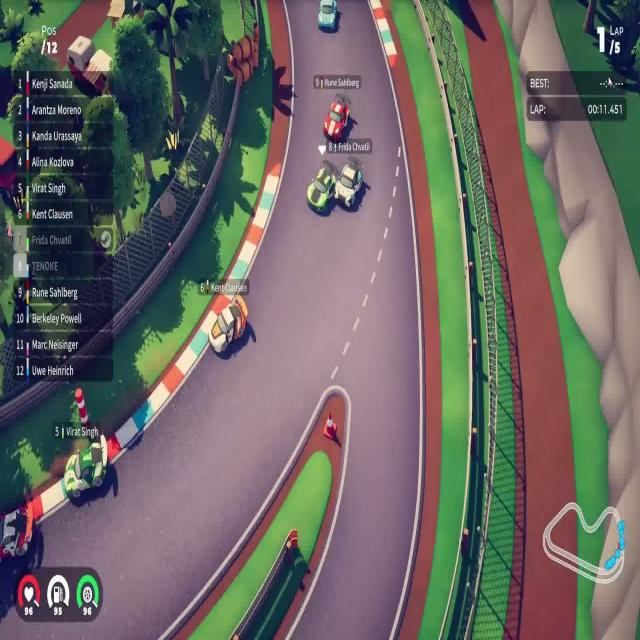car: (60, 436, 109, 502), (207, 293, 248, 354), (306, 162, 336, 214), (333, 160, 363, 208), (323, 97, 350, 141)
